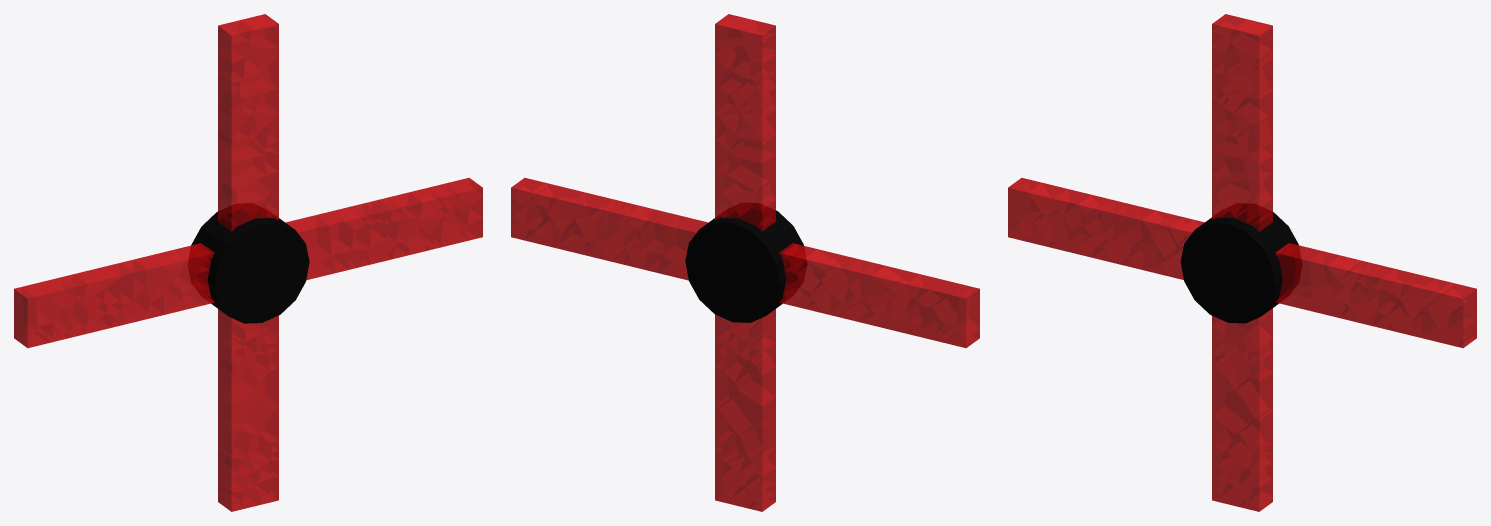
Rendered from rotator.fbx.
3 renders of one model, left to right at view 1: azimuth 30°, elevation 25°; view 2: azimuth 150°, elevation 25°; view 3: azimuth 330°, elevation 25°, orthographic.
Visible parts, largest first — view 1: oben, links, unten, rechts, middle, unten_cell.019, rechts_cell.030, oben_cell.025, links_cell.019, rechts_cell.005, oben_cell.018, unten_cell.013 (+13 smaller); view 2: oben, links, unten, rechts, middle, unten_cell.019, rechts_cell.030, oben_cell.025, links_cell.019, rechts_cell.005, oben_cell.018, unten_cell.013 (+12 smaller); view 3: oben, rechts, unten, links, middle, rechts_cell.030, unten_cell.019, unten_cell.018, rechts_cell.005, unten_cell.025, oben_cell.025, oben_cell.006 (+16 smaller).
Part boxes in pixels (x1=…): oben: x1=218, y1=14, x2=278, y2=231; links: x1=14, y1=243, x2=214, y2=347; unten: x1=218, y1=309, x2=278, y2=511; rechts: x1=286, y1=178, x2=482, y2=279; middle: x1=191, y1=208, x2=309, y2=323; unten_cell.019: x1=218, y1=390, x2=274, y2=434; rechts_cell.030: x1=286, y1=215, x2=330, y2=270; oben_cell.025: x1=218, y1=154, x2=266, y2=191; links_cell.019: x1=14, y1=287, x2=37, y2=338; rechts_cell.005: x1=316, y1=211, x2=353, y2=254; oben_cell.018: x1=218, y1=135, x2=264, y2=163; unten_cell.013: x1=218, y1=366, x2=254, y2=406; oben: x1=715, y1=14, x2=775, y2=231; links: x1=779, y1=243, x2=979, y2=347; unten: x1=715, y1=309, x2=775, y2=511; rechts: x1=511, y1=178, x2=707, y2=280; middle: x1=685, y1=208, x2=803, y2=322; unten_cell.019: x1=720, y1=390, x2=775, y2=434; rechts_cell.030: x1=662, y1=215, x2=707, y2=271; oben_cell.025: x1=727, y1=154, x2=775, y2=191; links_cell.019: x1=956, y1=287, x2=979, y2=338; rechts_cell.005: x1=640, y1=211, x2=677, y2=254; oben_cell.018: x1=729, y1=135, x2=775, y2=163; unten_cell.013: x1=739, y1=366, x2=775, y2=406; oben: x1=1212, y1=14, x2=1272, y2=231; rechts: x1=1275, y1=243, x2=1476, y2=347; unten: x1=1212, y1=308, x2=1272, y2=511; links: x1=1008, y1=178, x2=1204, y2=279; middle: x1=1180, y1=210, x2=1298, y2=323; rechts_cell.030: x1=1275, y1=243, x2=1322, y2=298; unten_cell.019: x1=1212, y1=390, x2=1254, y2=434; unten_cell.018: x1=1236, y1=372, x2=1272, y2=418; rechts_cell.005: x1=1309, y1=251, x2=1339, y2=296; unten_cell.025: x1=1240, y1=411, x2=1272, y2=451; oben_cell.025: x1=1212, y1=152, x2=1246, y2=182; oben_cell.006: x1=1230, y1=28, x2=1272, y2=59.
Bounding box in the file's own units: 979 × 979 × 102.
